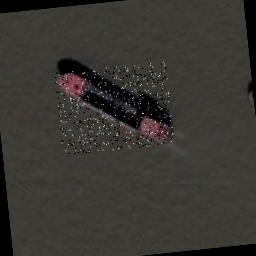boat: (54, 61, 174, 155)
